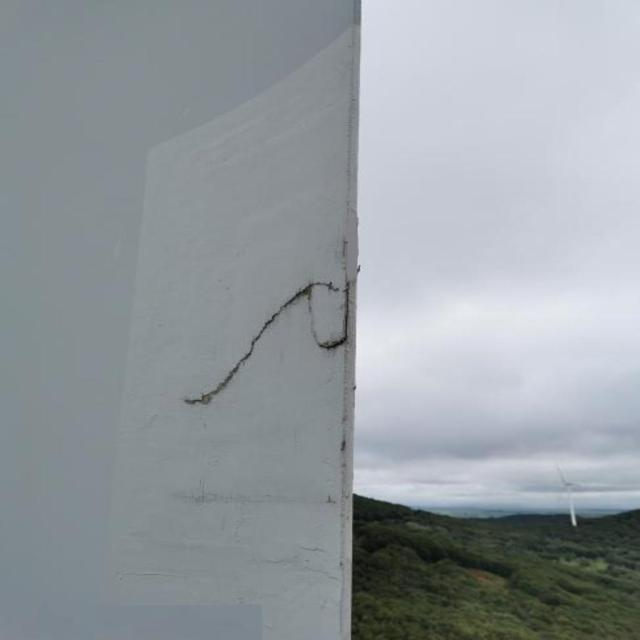crack: (186, 283, 350, 411)
